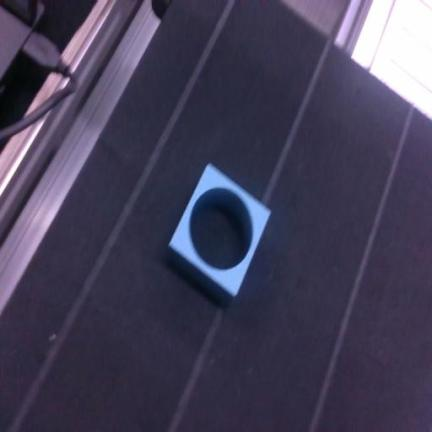square: (169, 164, 269, 300)
